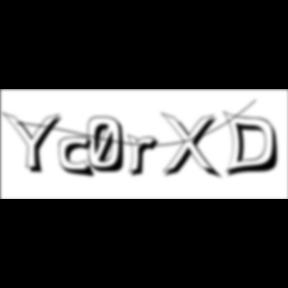0: (88, 115, 132, 174)
D: (222, 110, 286, 180)
X: (160, 112, 224, 182)
Y: (1, 110, 68, 176)
c: (59, 136, 99, 180)
r: (127, 134, 165, 180)
